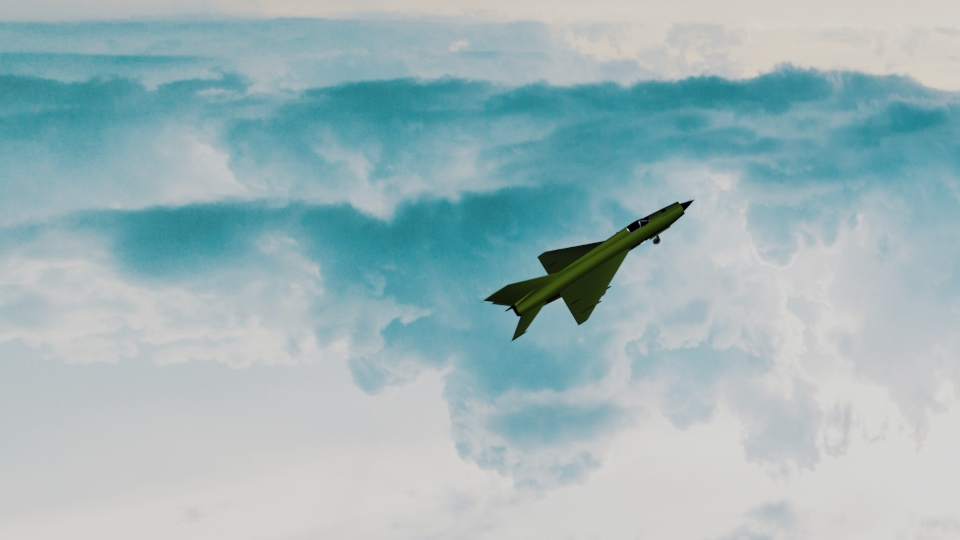plane: (489, 198, 696, 338)
